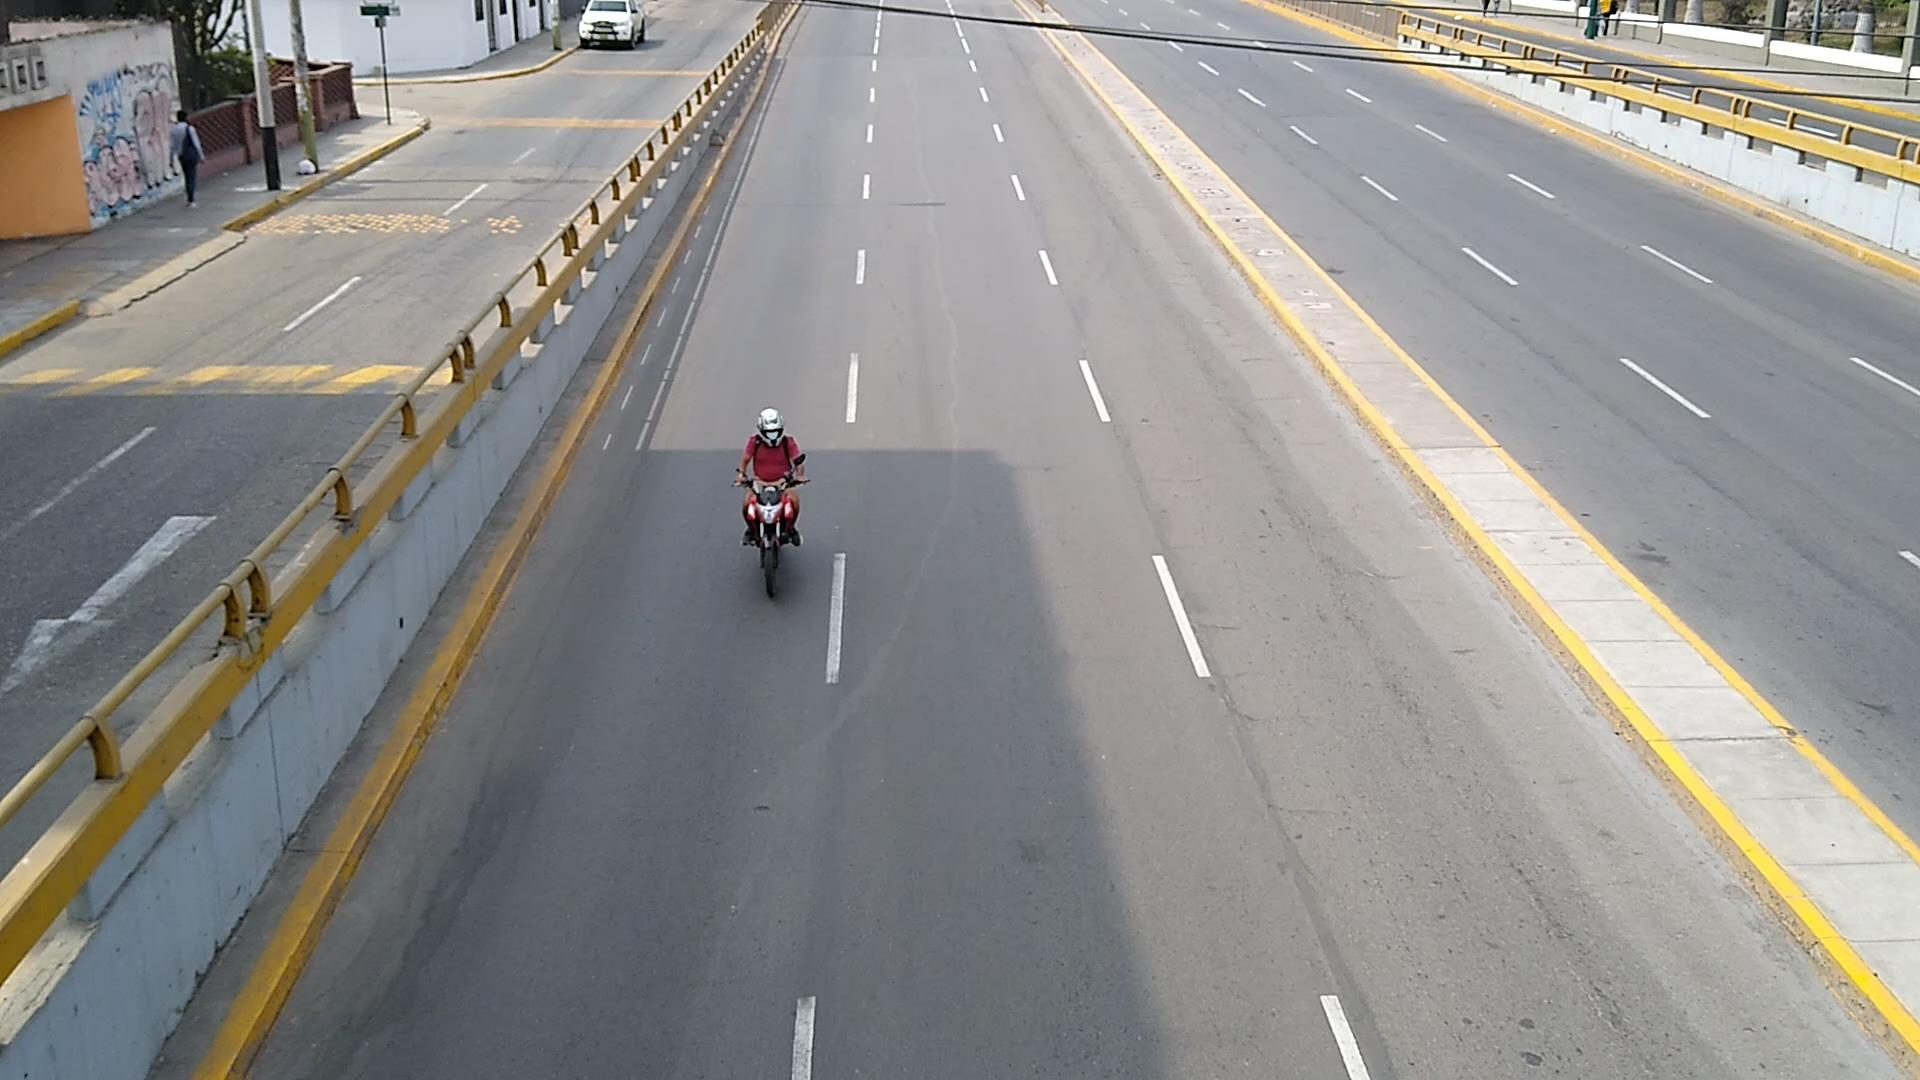car: (578, 0, 645, 45), (173, 108, 203, 204)
